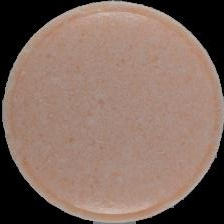68788-6339: (0, 0, 224, 224)
